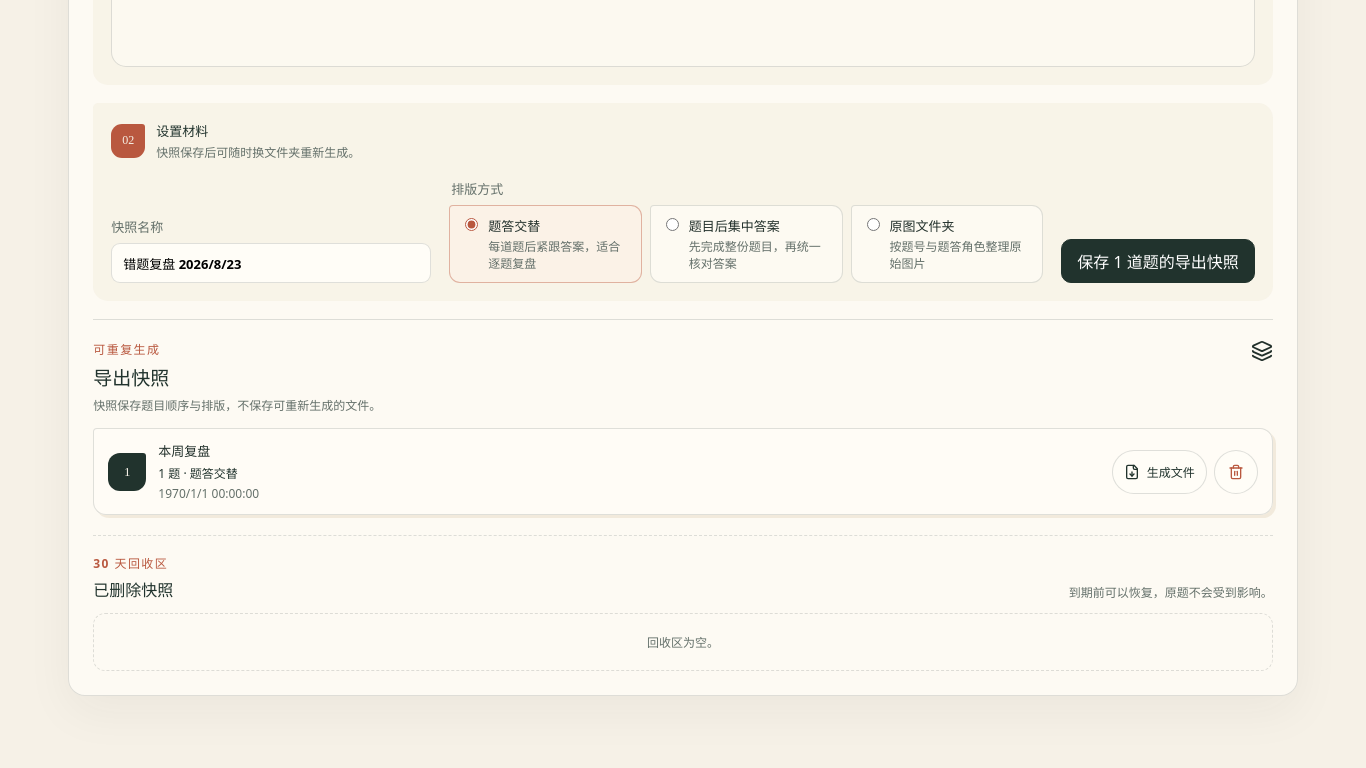
Test: ReportView › generates a real file from a saved snapshot and reports only its safe file name
(page scrolled)
Click the button with aria-label "生成导出文件：本周复盘".
click(1159, 472)  # box [1112,450,1207,494]
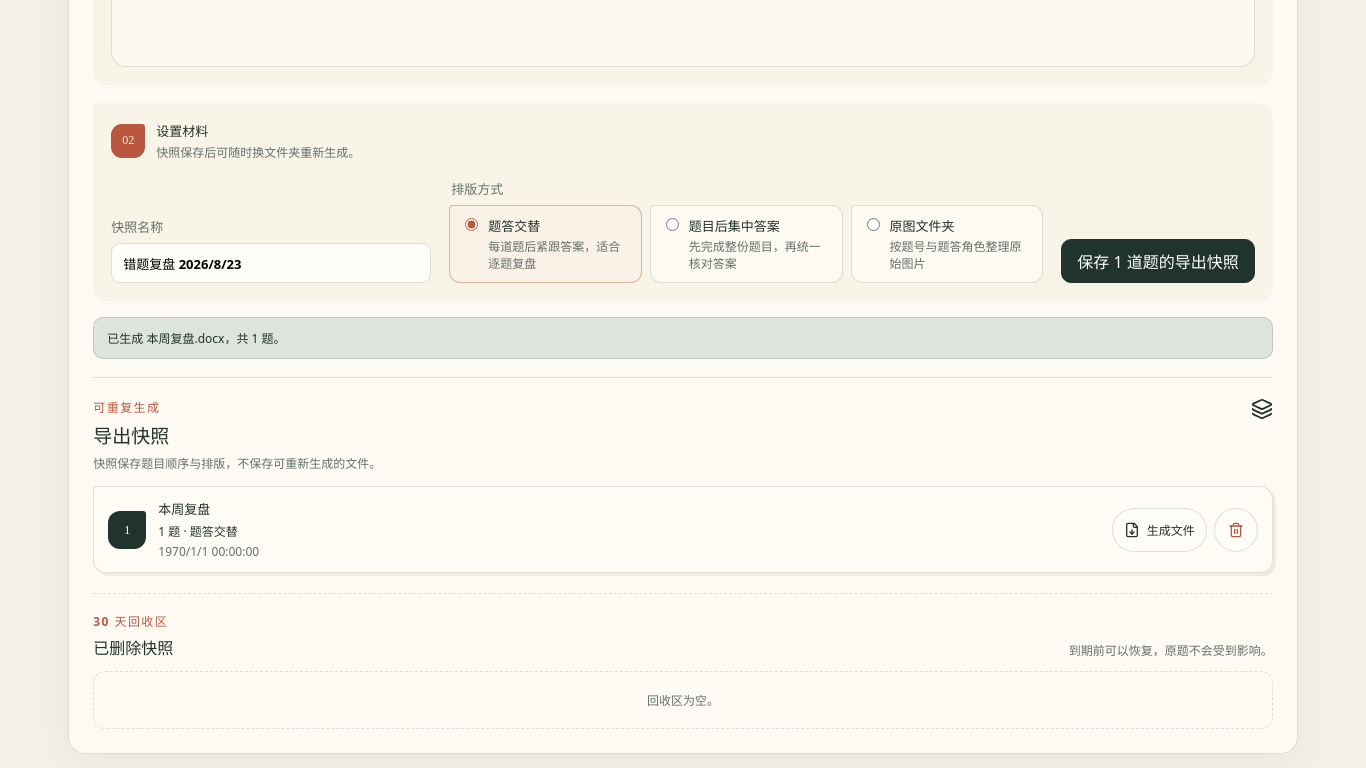
Expected: the message reads "已生成 本周复盘.docx，共 1 题。", [107,330,286,347]
